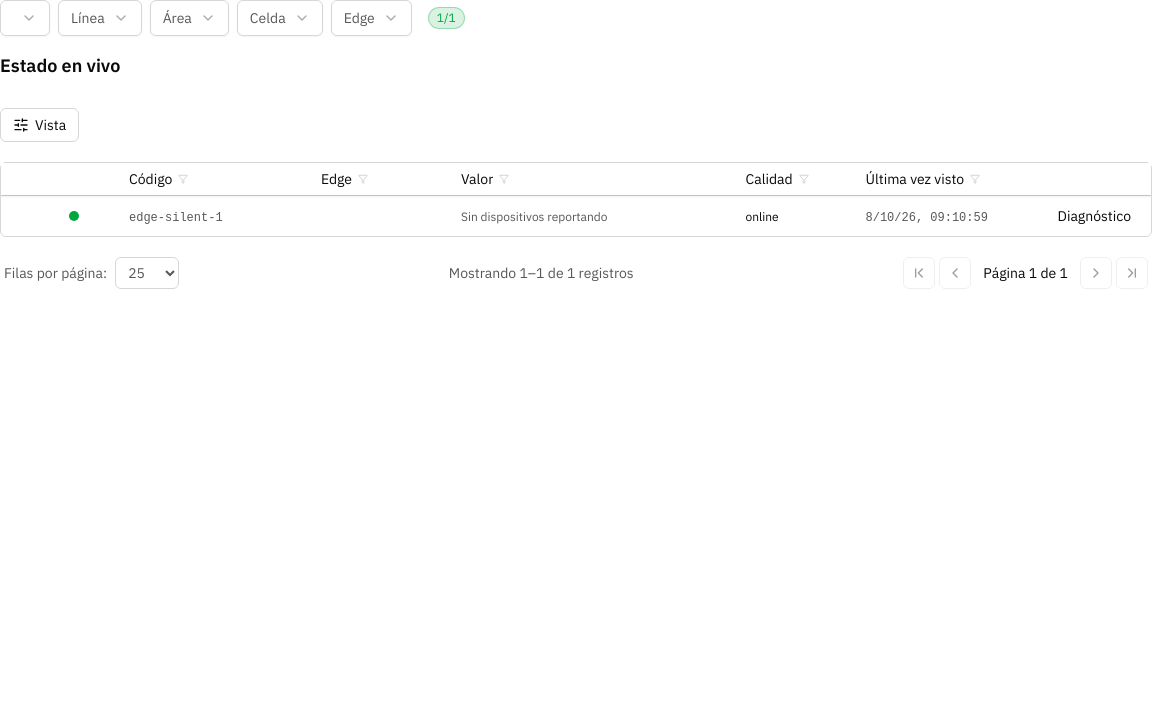
Live page edges with no matching devices › renders an edge with zero devices and opens its diagnostics panel on click
Expected: the text "edge-silent-1" is shown, [129,210,223,224]
Click the button "Diagnóstico".
click(1094, 216)  # box [1046,200,1143,232]
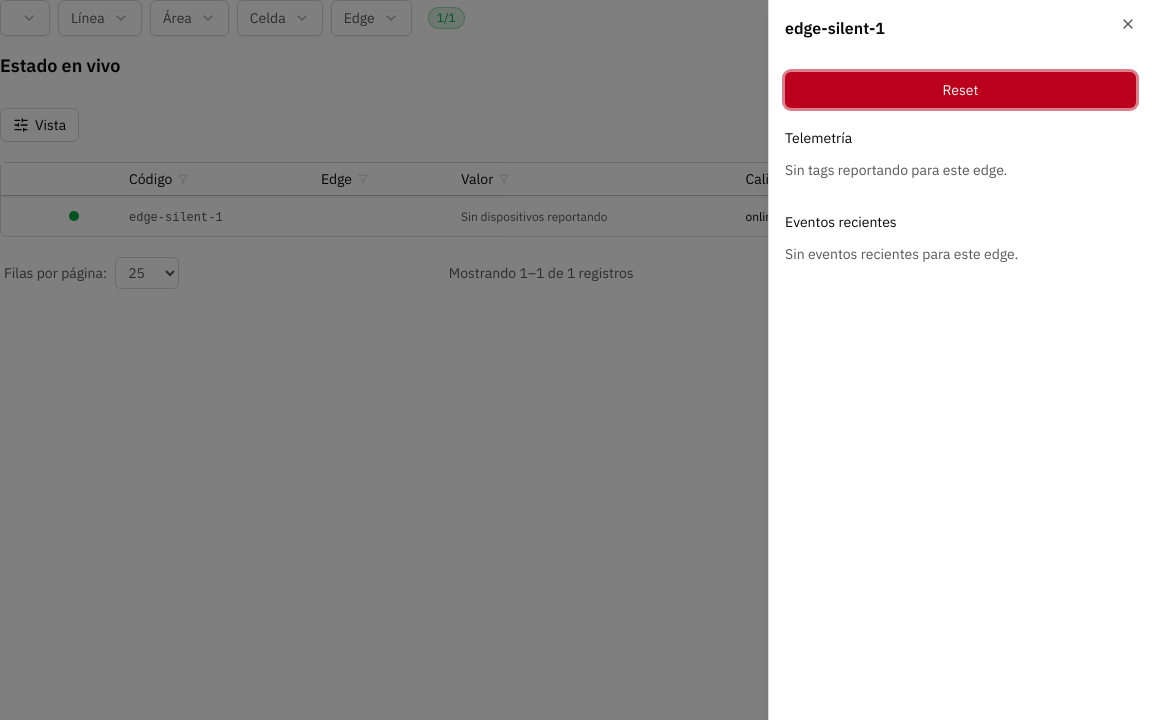
Expected: the button "Reset" is shown, [785,72,1136,108]
